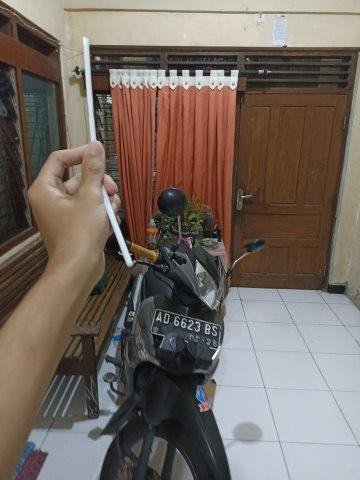sedotan: (82, 38, 131, 264)
